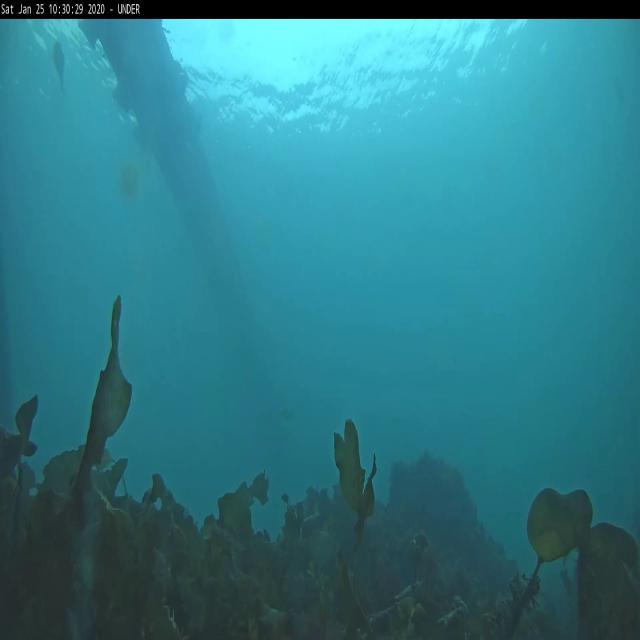fish: (51, 40, 66, 90)
